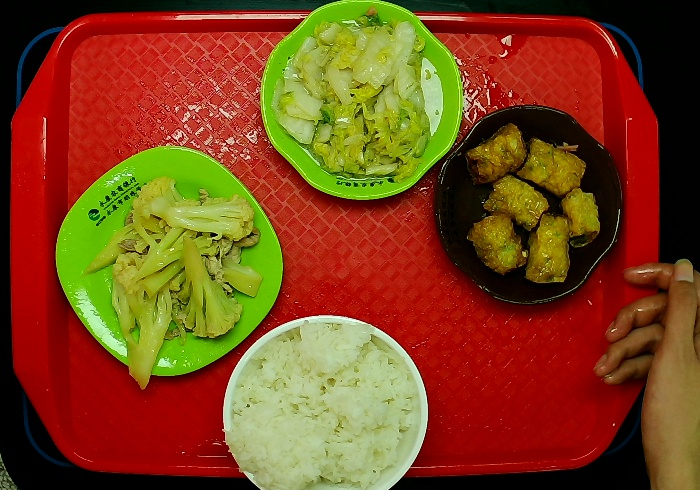YKMZ-Fan_Wan: (219, 312, 429, 490)
YKMZ-Ka_Fei_Ao_Bian_Wan: (432, 103, 626, 304)
YKMZ-Lv_Se_Ao_Bian_Wan: (259, 1, 464, 201)
YKMZ-Lv_Se_Fang_Die: (53, 143, 285, 379)
